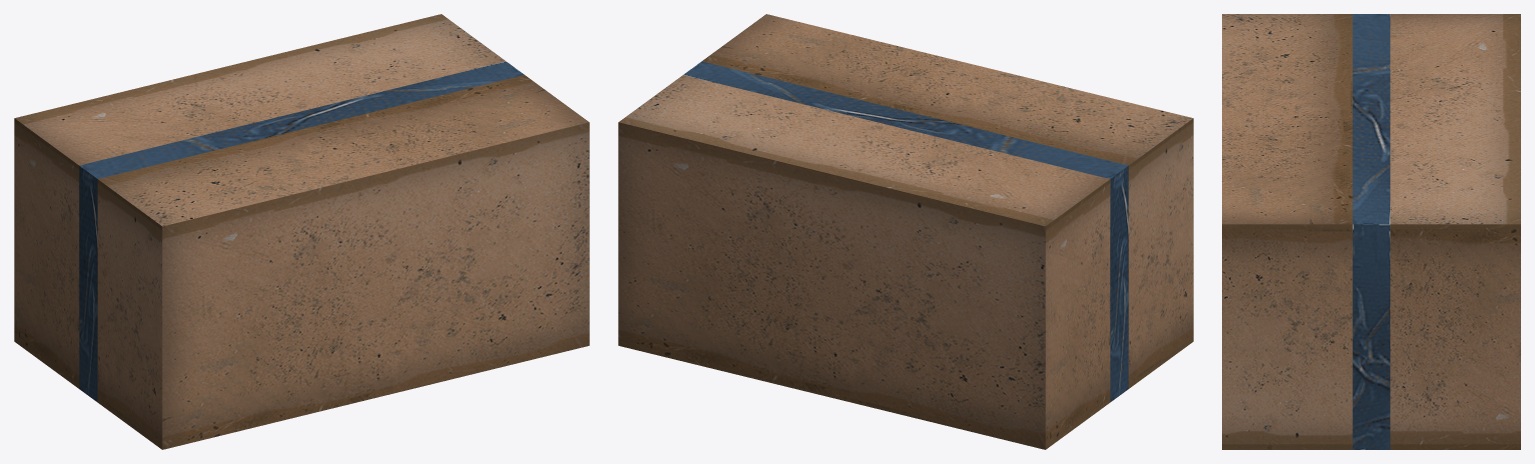
Rendered from CardboardBoxClosed2_SM.fbx.
The picture shows the model from 3 angles, left to right: view 1: azimuth 30°, elevation 25°; view 2: azimuth 150°, elevation 25°; view 3: azimuth 270°, elevation 25°; orthographic projection.
Visible parts, largest first — view 1: Box003; view 2: Box003; view 3: Box003.
Part boxes in pixels (x1,y1,x2,y2): Box003: [14, 14, 589, 449]; Box003: [618, 14, 1193, 449]; Box003: [1222, 14, 1520, 449].
Bounding box in the file's own units: 117 × 58.47 × 70.16.
